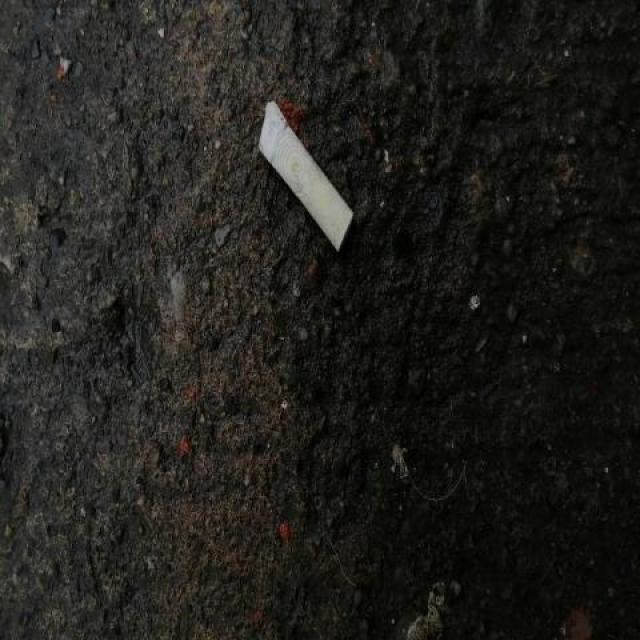non-organic waste: (251, 93, 360, 260)
